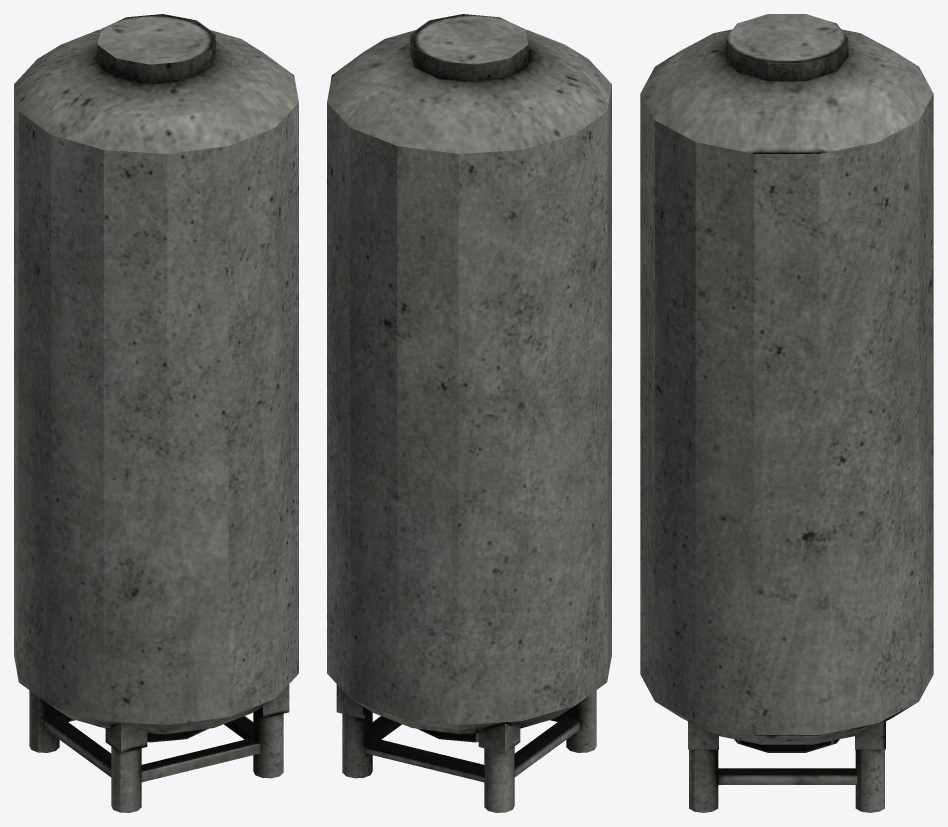
File: Tank1.glb
3 views of the same model, side by side, from view 1: azimuth 30°, elevation 25°; view 2: azimuth 150°, elevation 25°; view 3: azimuth 270°, elevation 25° (orthographic).
Parts seen in each view (by area): view 1: Sphere001; view 2: Sphere001; view 3: Sphere001.
Part boxes in pixels (x1=…): Sphere001: x1=14, y1=14, x2=298, y2=812; Sphere001: x1=327, y1=14, x2=611, y2=812; Sphere001: x1=640, y1=14, x2=933, y2=812.
Bounding box in the file's own units: 55.26 × 156 × 56.69.
Materials: 1 (1 with a texture image).
